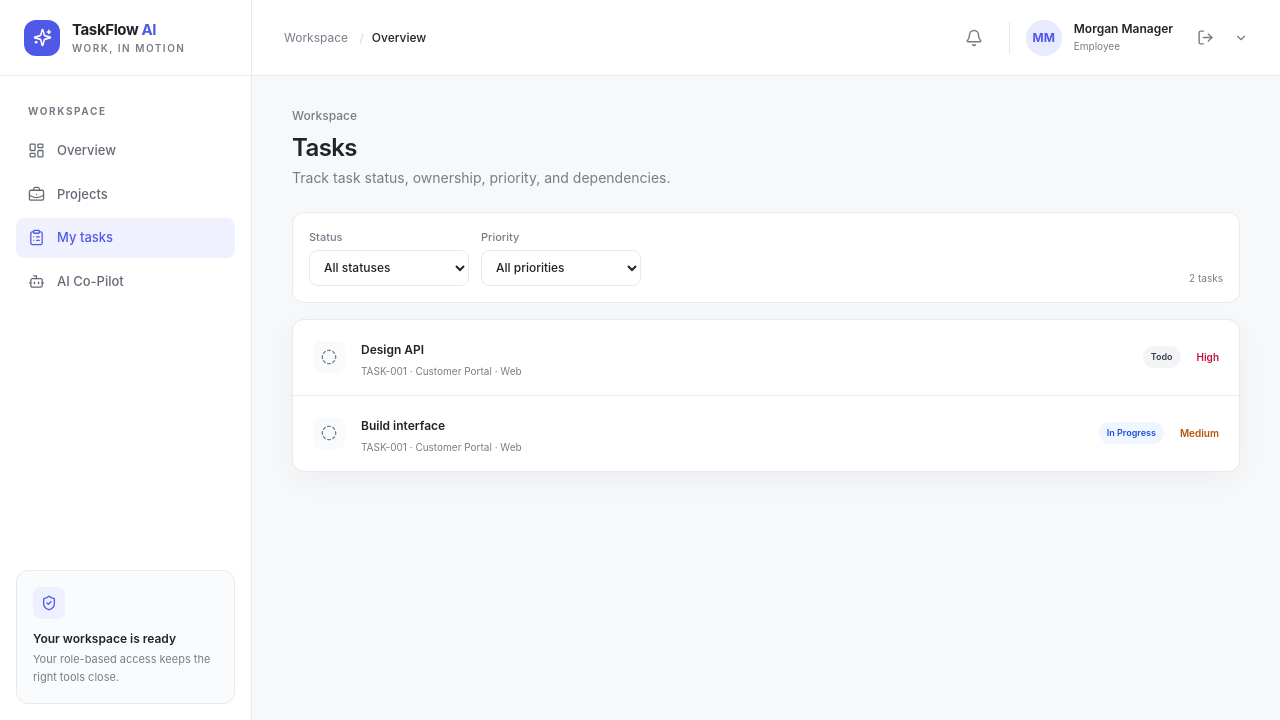
Test: manager dashboard flows › filters assigned tasks by status and priority
Check: the link "Design API" is shown, box [361,342,424,356]
Select "In Progress" in the dropdown labelled "Status" at (389,268), box [309,250,469,286]
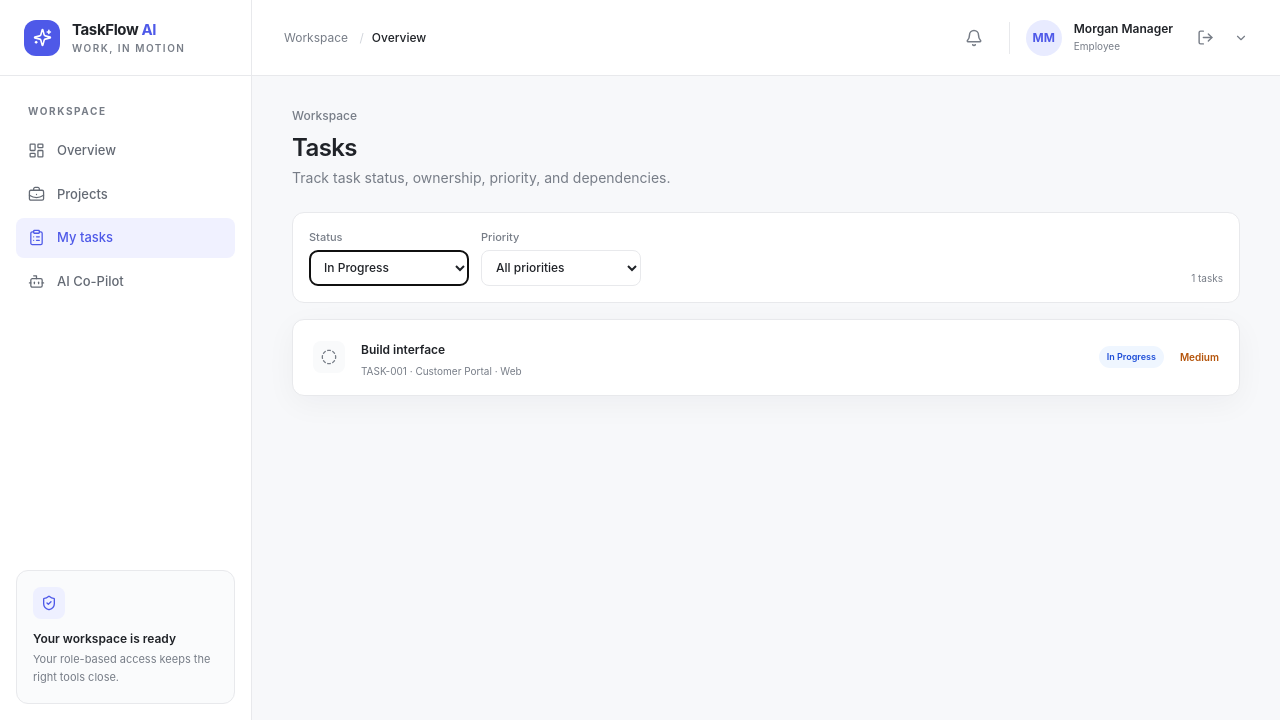
Check: the link "Build interface" is shown, box [361,342,445,356]
Check: the link "Design API" is gone
Select "High" in the dropdown labelled "Priority" at (561,268), box [481,250,641,286]
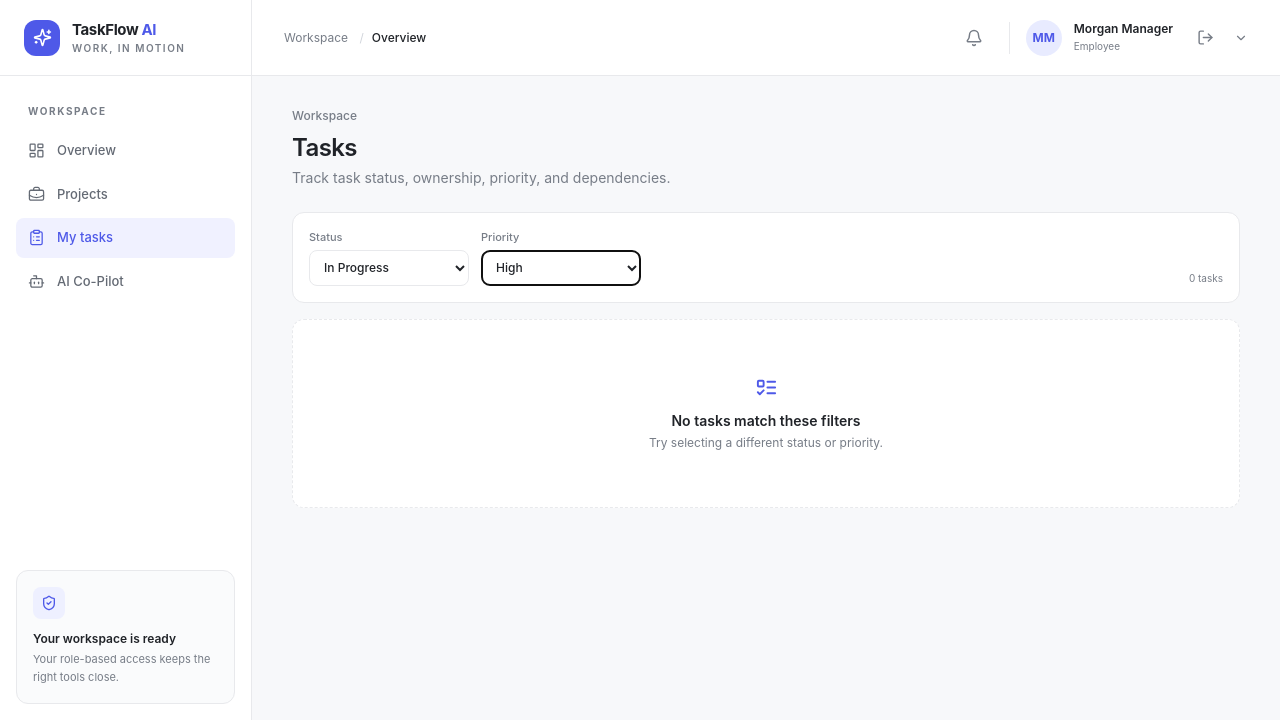
Check: the heading "No tasks match these filters" is shown, box [672,412,860,428]
